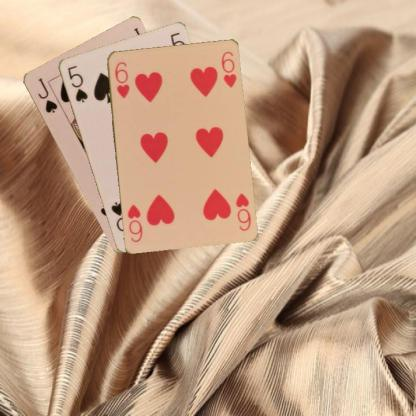5s: (65, 63, 89, 104)
6h: (232, 190, 252, 232), (112, 58, 131, 100)
Js: (35, 74, 59, 115)
